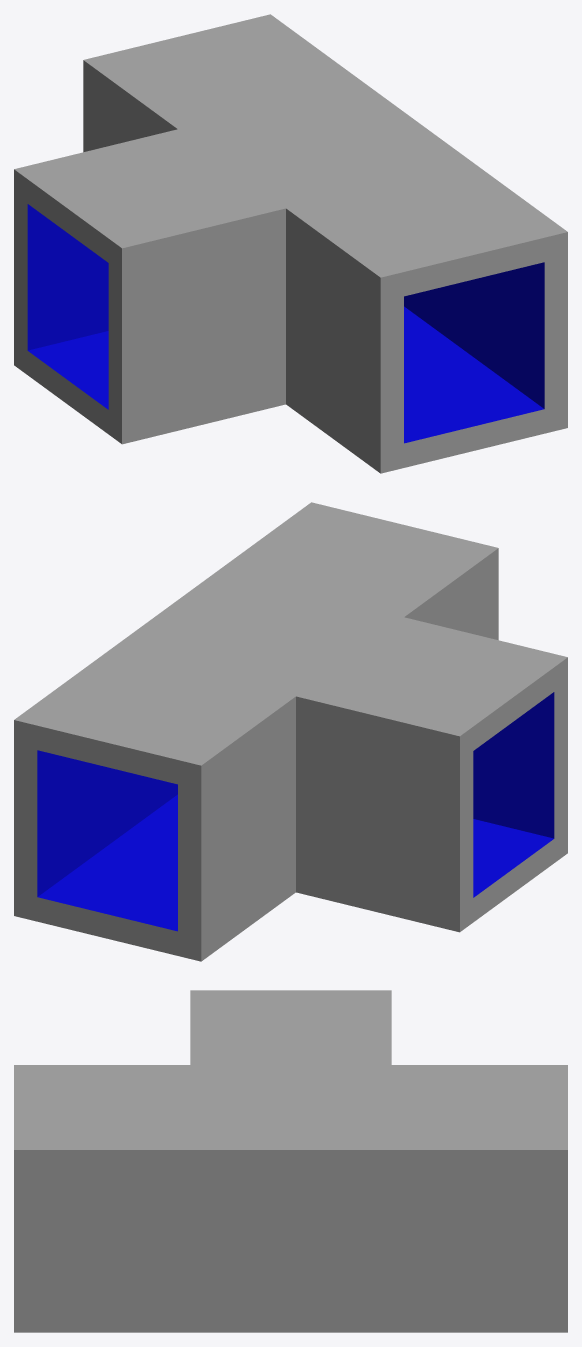
The model's file is t split hollow.fbx.
3 renders of one model, top to bottom at view 1: azimuth 30°, elevation 25°; view 2: azimuth 150°, elevation 25°; view 3: azimuth 270°, elevation 25°, orthographic. The views are drawn at different scales.
Parts seen in each view (by area): view 1: T_Split_hollow; view 2: T_Split_hollow; view 3: T_Split_hollow.
Boxes of the visible parts, left/top/right/bottom form: T_Split_hollow: left=14, top=14, right=567, bottom=473; T_Split_hollow: left=14, top=502, right=567, bottom=961; T_Split_hollow: left=14, top=990, right=567, bottom=1332.
Size of the model in its own units: 7.5 by 4 by 11.
